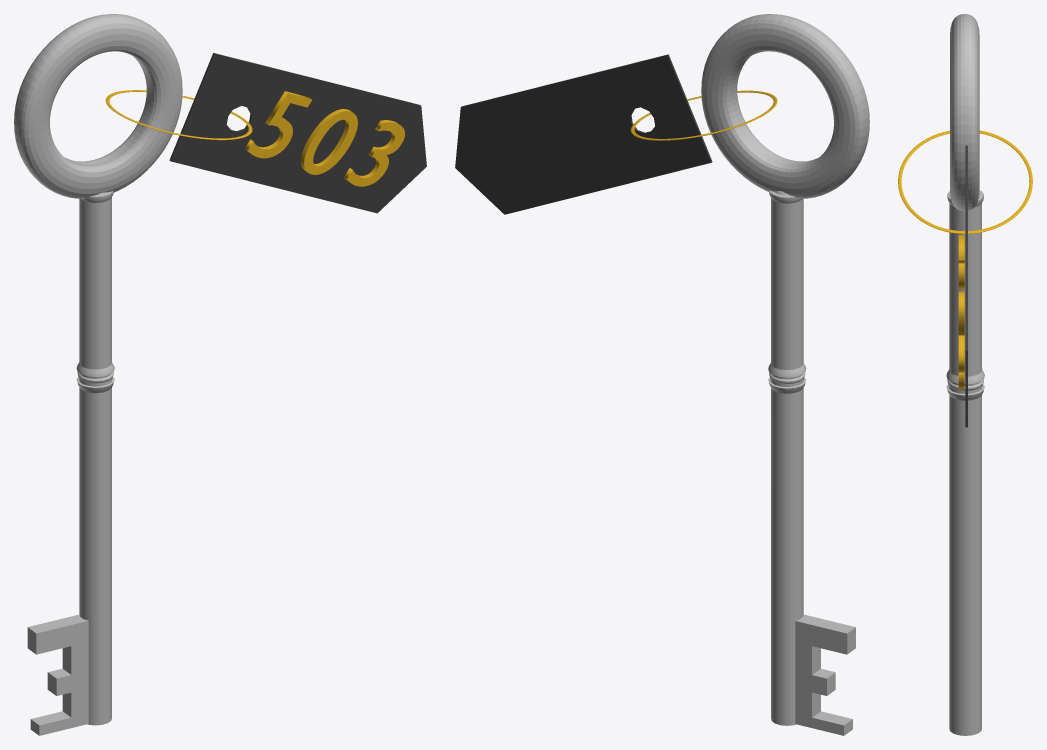
File: key503.fbx
3 renders of one model, left to right at view 1: azimuth 30°, elevation 25°; view 2: azimuth 150°, elevation 25°; view 3: azimuth 270°, elevation 25°, orthographic.
Visible parts, largest first — view 1: key503; view 2: key503; view 3: key503.
Boxes of the visible parts, x1,y1,x2,y2 form: key503: (14,14,426,735); key503: (455,14,869,735); key503: (898,14,1032,735).
Bounding box in the file's own units: 8.68 × 14.18 × 2.45.
